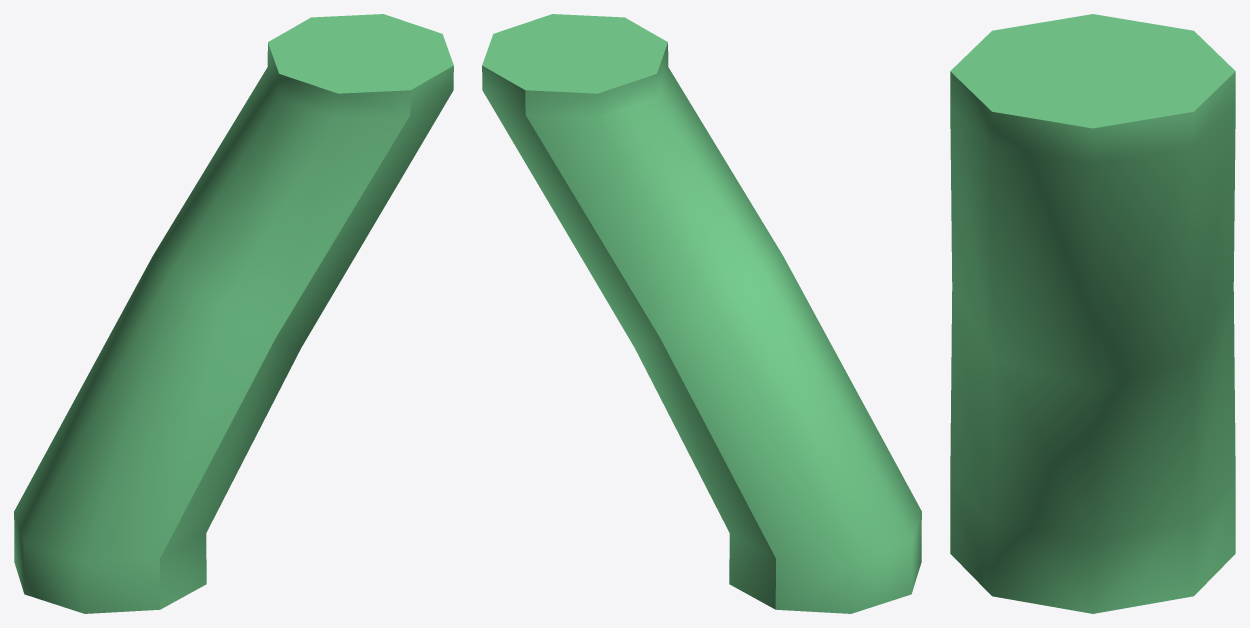
The model's file is Pipe_Thick_Offset_COL.fbx.
3 views of the same model, side by side, from view 1: azimuth 30°, elevation 25°; view 2: azimuth 150°, elevation 25°; view 3: azimuth 270°, elevation 25° (orthographic). The views are drawn at different scales.
Visible parts, largest first — view 1: Pipe_Thick_Offset_COL; view 2: Pipe_Thick_Offset_COL; view 3: Pipe_Thick_Offset_COL.
Boxes of the visible parts, box(x1,y1,x2,y2) form: Pipe_Thick_Offset_COL: box(14, 14, 453, 613); Pipe_Thick_Offset_COL: box(482, 14, 921, 613); Pipe_Thick_Offset_COL: box(950, 14, 1235, 613).
Bounding box in the file's own units: 668 × 699 × 275.
